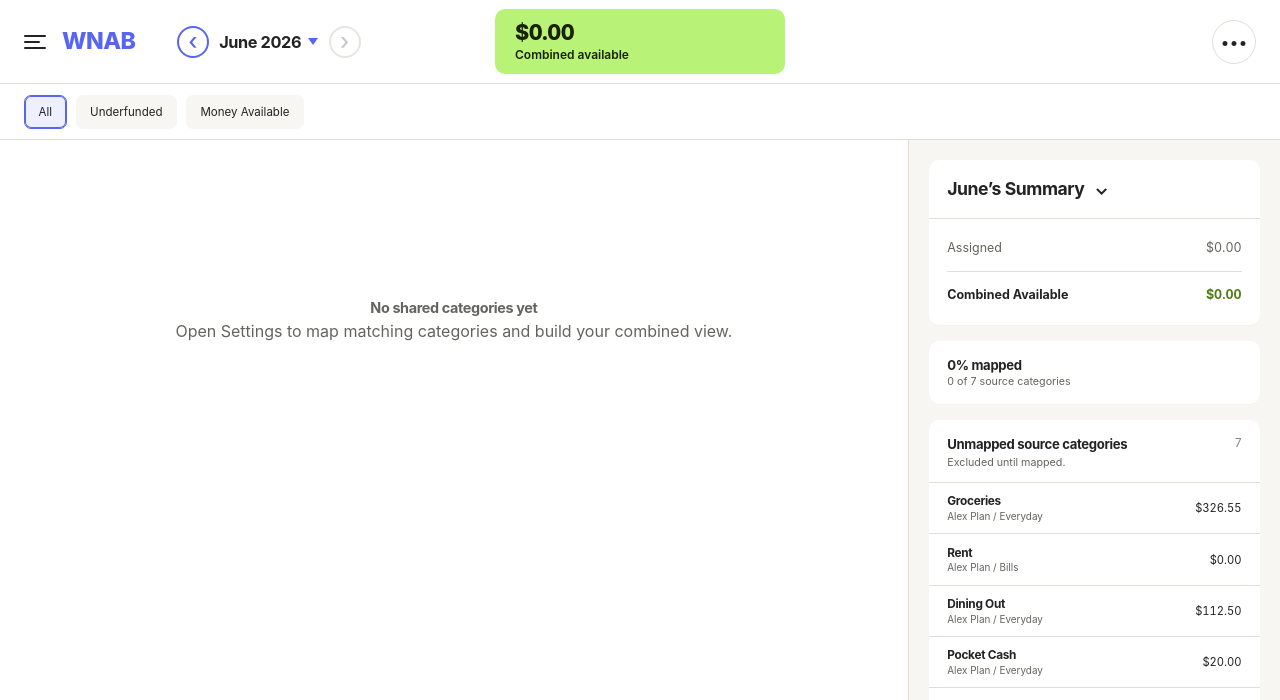
Test: WNAB app › signs out and returns to the password gate
Expected: the button with aria-label "Choose month, June 2026" is shown, [217,26,321,57]
Expected: the heading "Unmapped source categories" is shown, [947,436,1127,452]
Click the button named "More options": (1234, 42) [1212,20,1256,64]
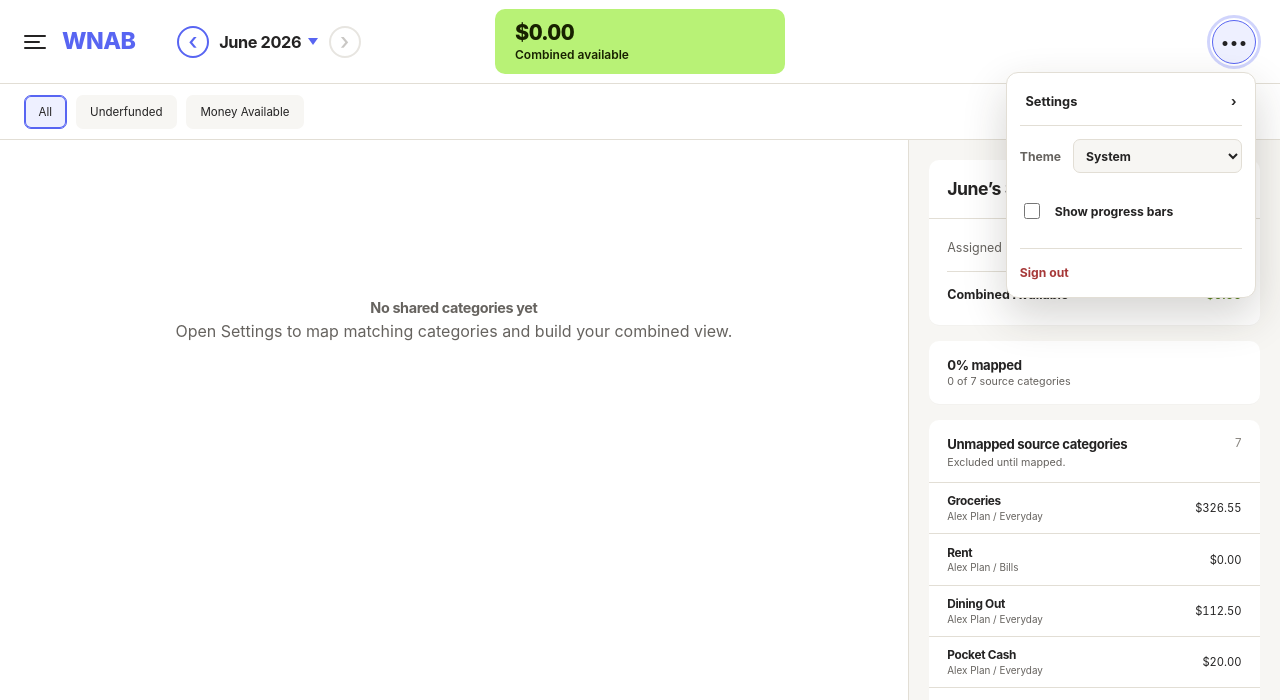
Click the button "Sign out": (1131, 266) [1020,248,1242,284]
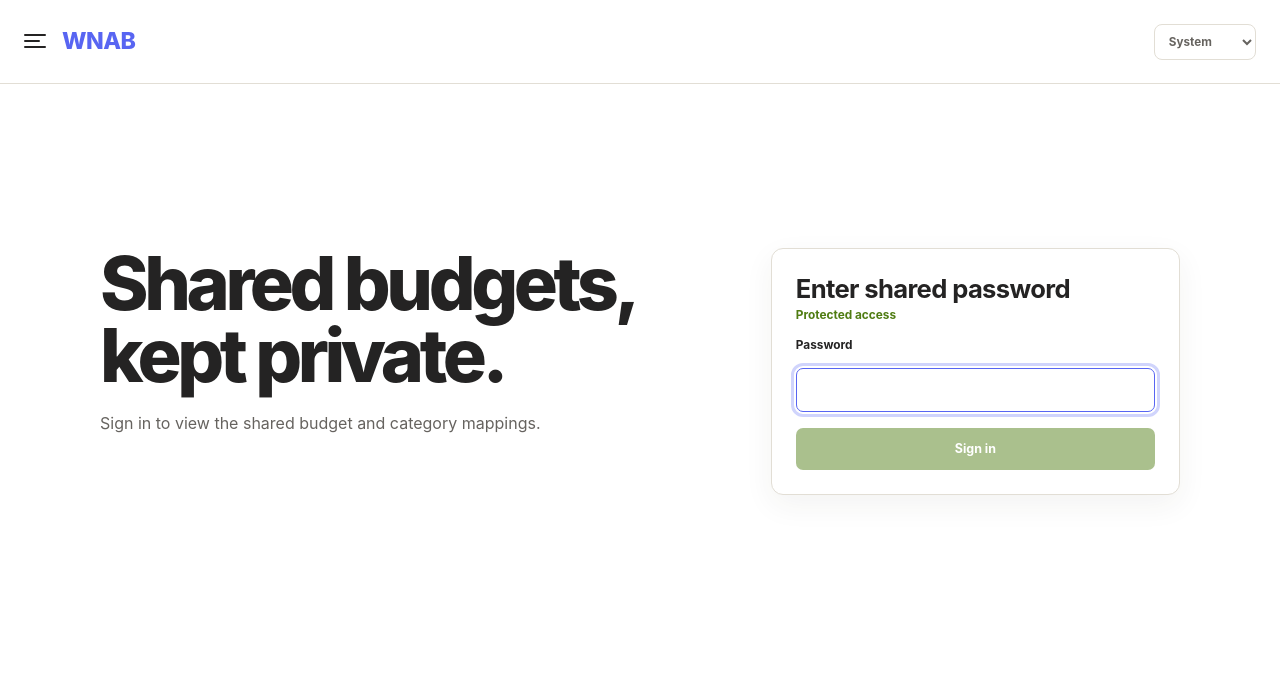
Expected: the heading "Enter shared password" is shown, [796,273,1070,304]
